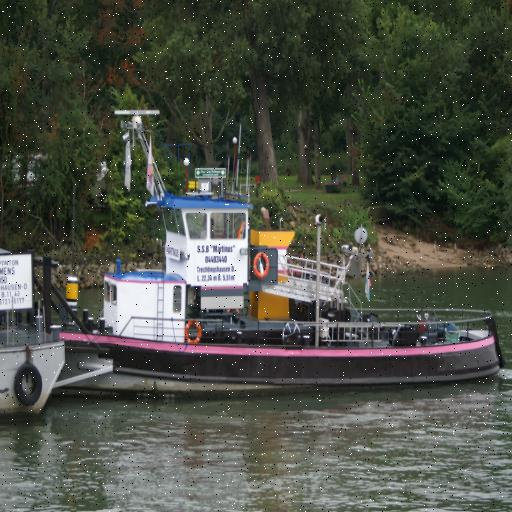tugboat: (1, 103, 510, 406)
